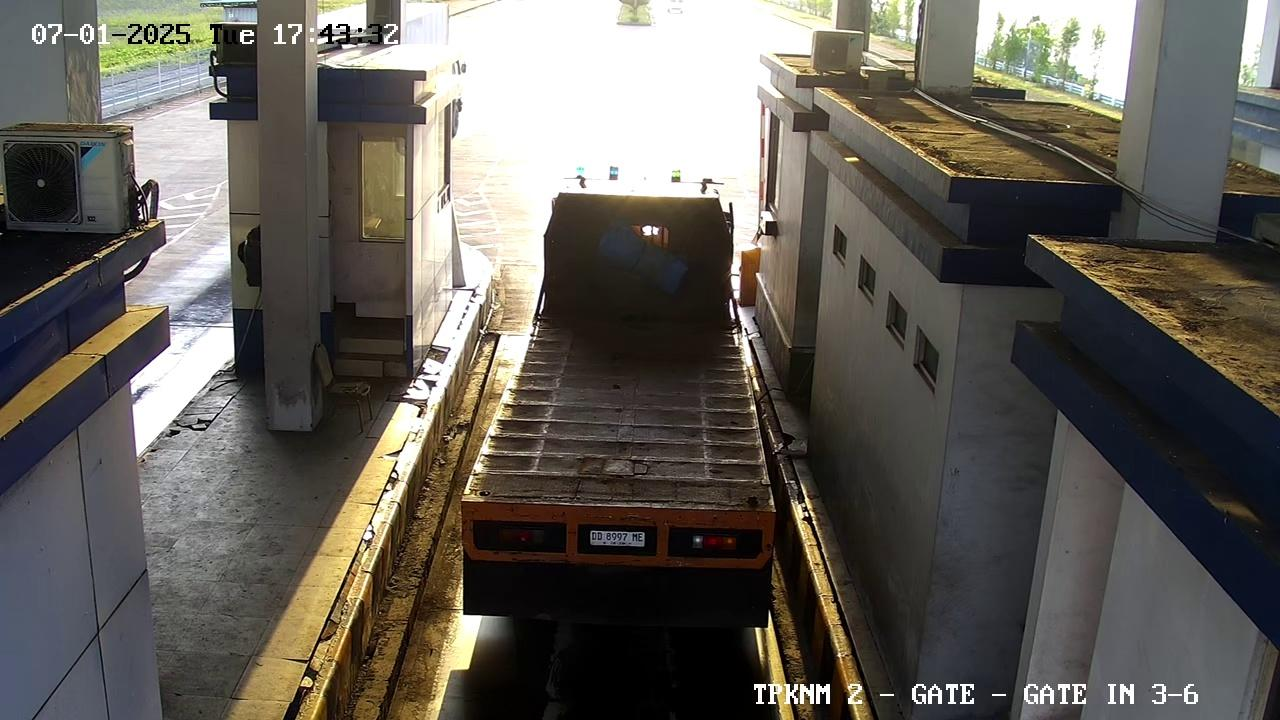plate_number: (579, 528, 655, 551)
